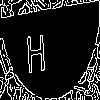H: (25, 25, 47, 73)
